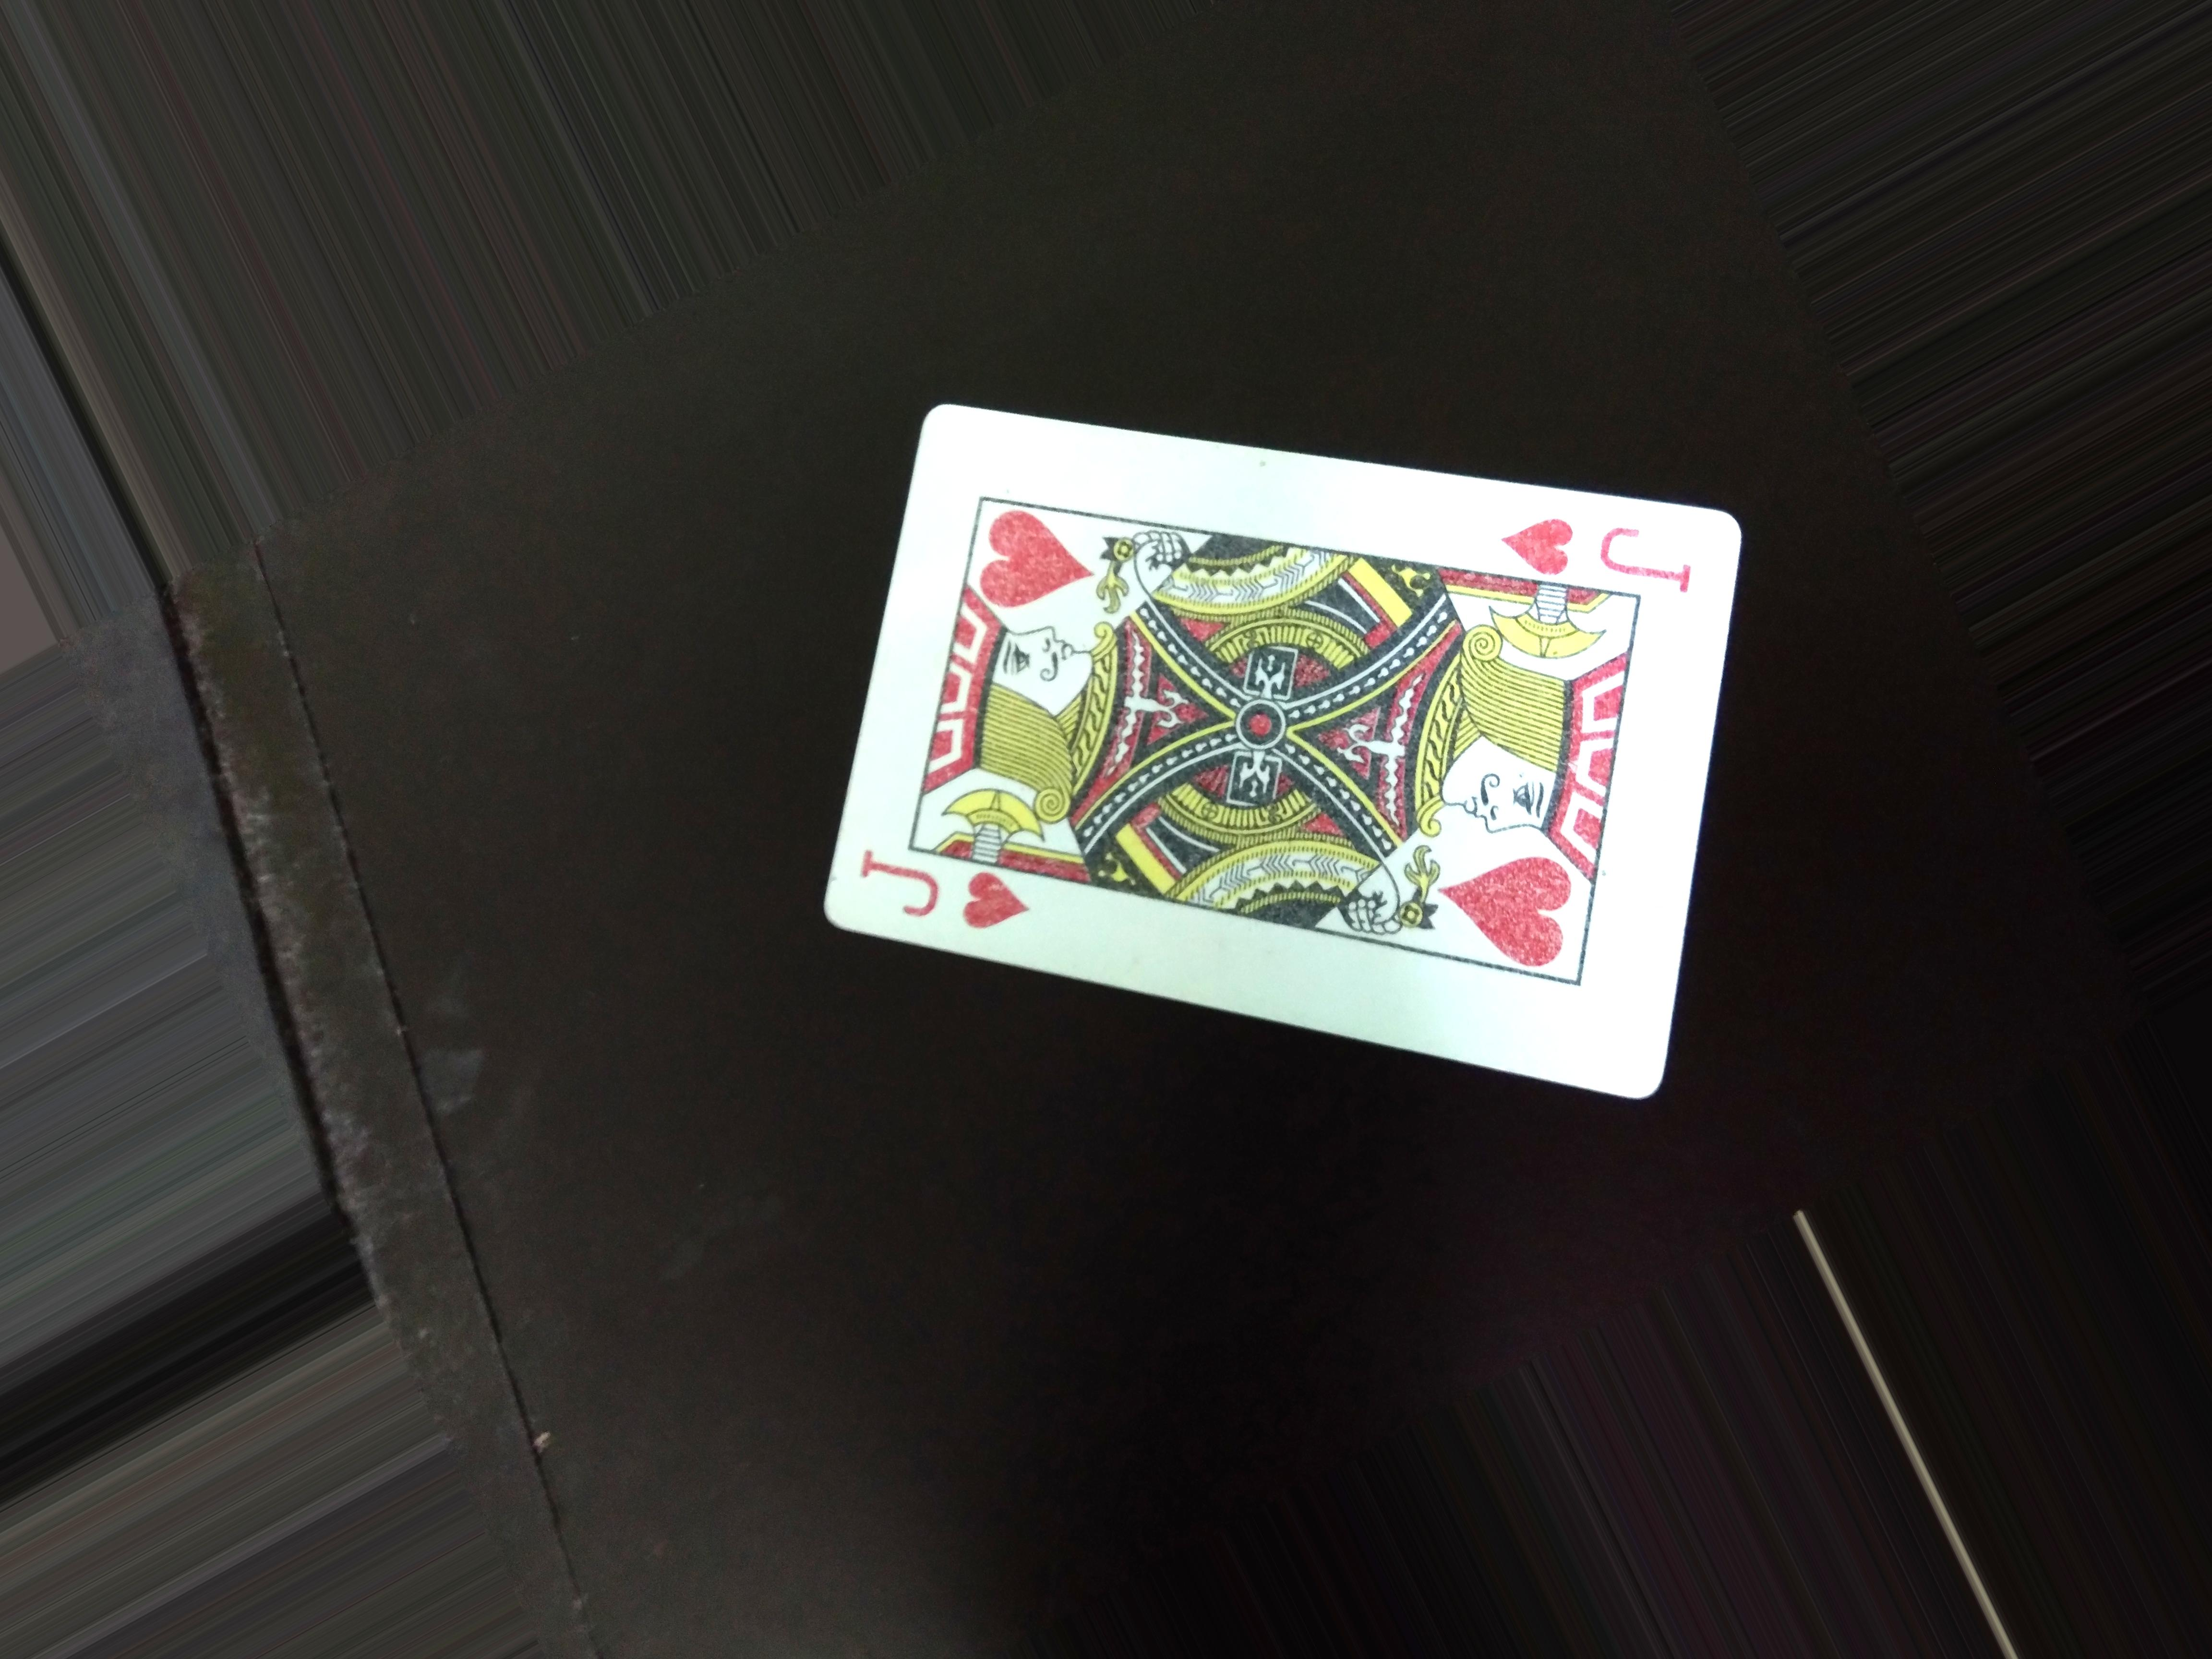JH: (841, 842, 1052, 943)
